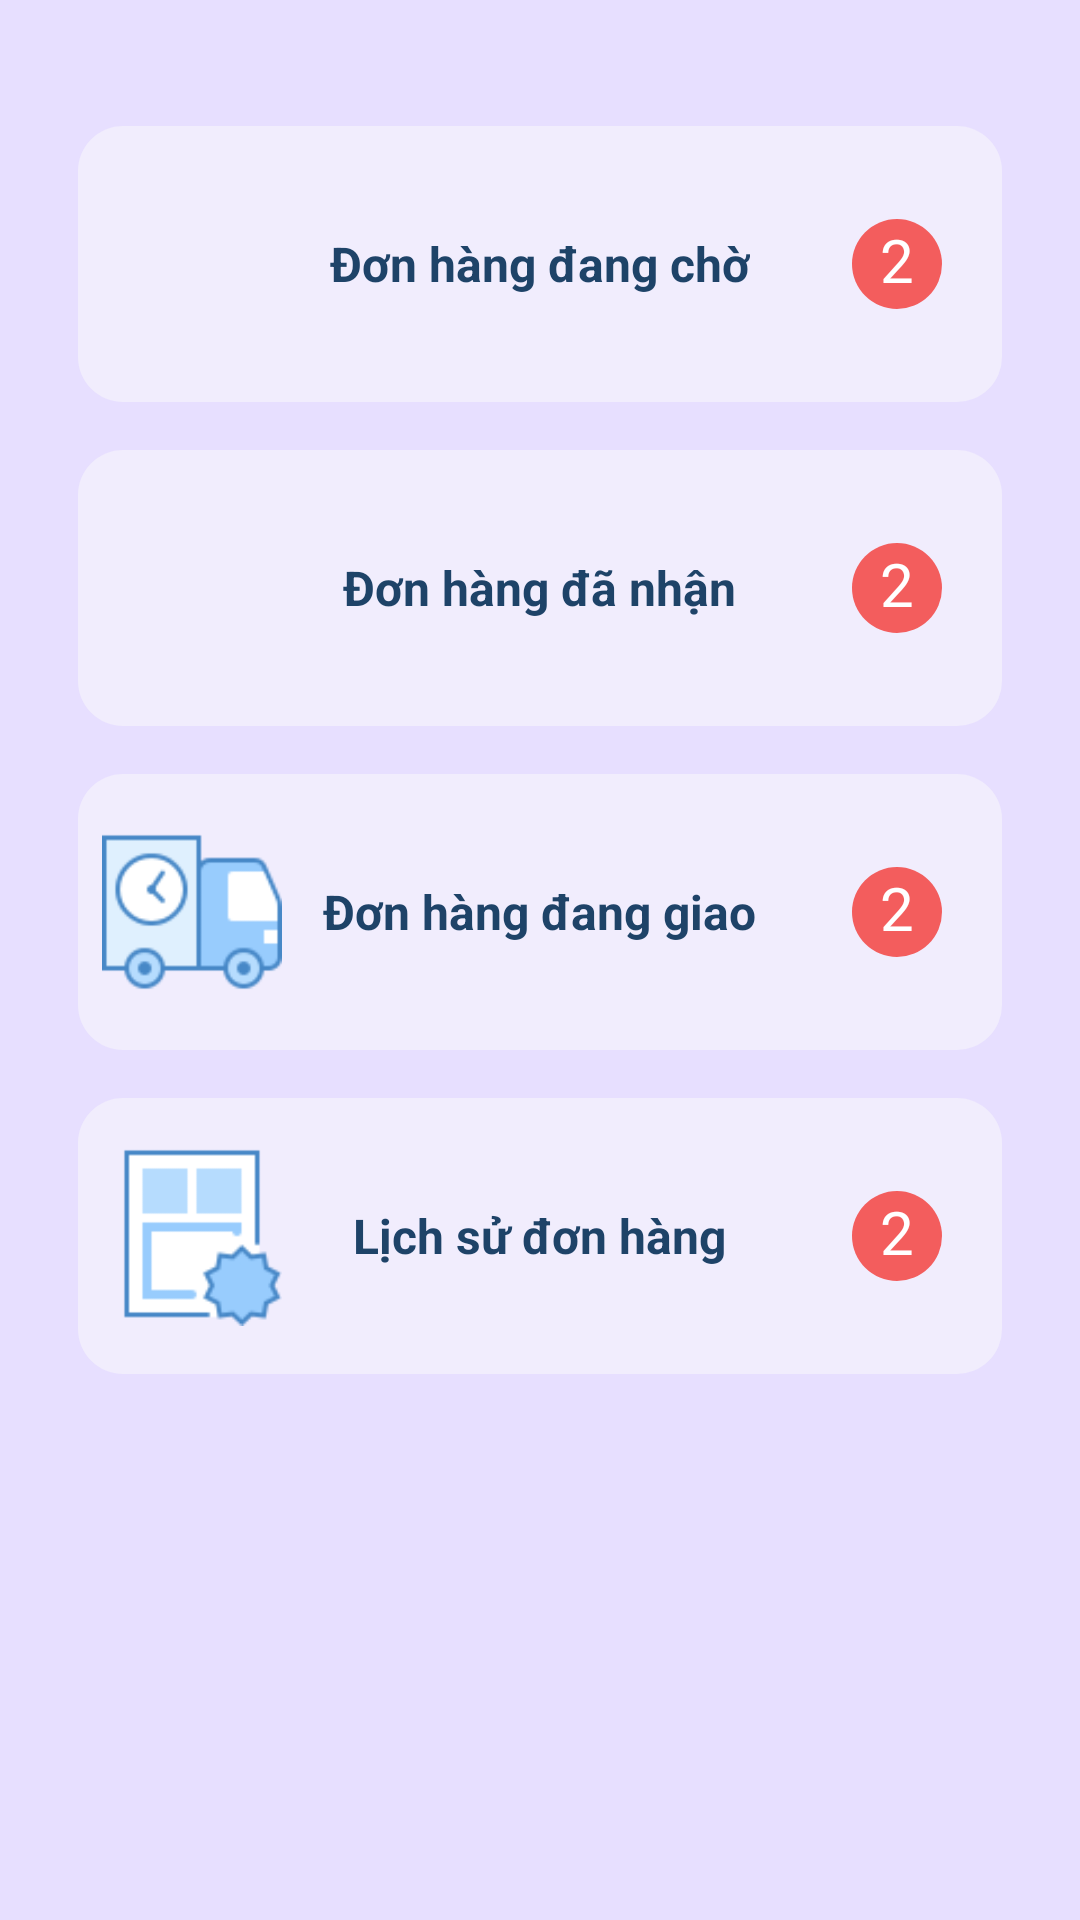

Icons on this 1080*1920 Android screen, each with its box as (x1, y1, x2, y2):
delivering order: (102, 834, 282, 990)
